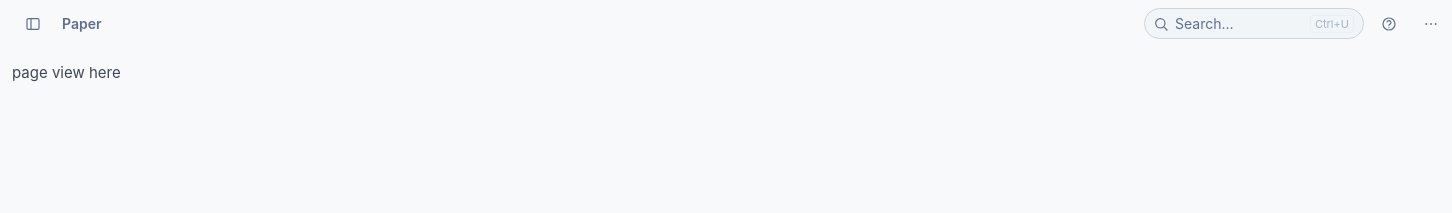
Test: page menu button starts closed and toggles aria-expanded on click
This screenshot has width=1452, height=213.
What coordinates should you click on to do the following:
click the button named "Page menu"
I would click on:
 (1431, 24)
Its box is [1414, 10, 1448, 38].
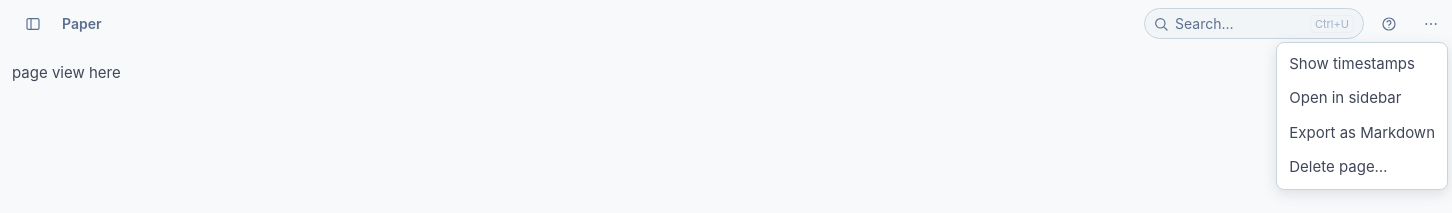
Expected: the menu is shown, [1276, 42, 1448, 190]
Expected: the menu item "Open in sidebar" is shown, [1277, 81, 1447, 116]
